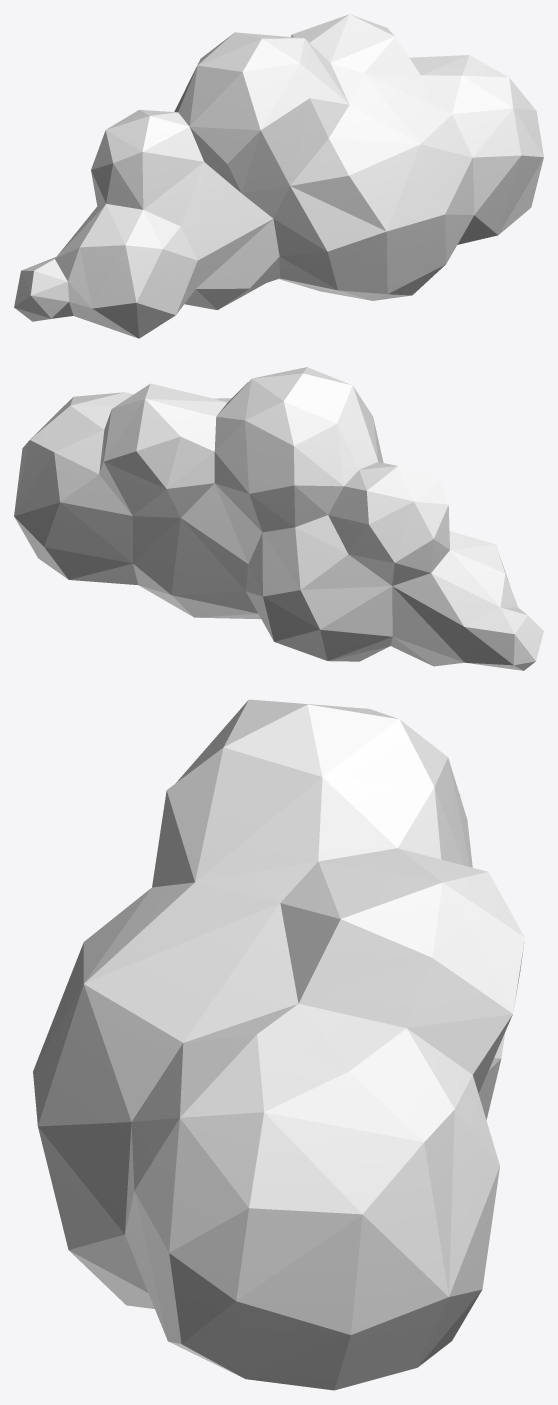
The model's file is cloud 5.fbx.
3 renders of one model, top to bottom at view 1: azimuth 30°, elevation 25°; view 2: azimuth 150°, elevation 25°; view 3: azimuth 270°, elevation 25°, orthographic. The views are drawn at different scales.
Parts seen in each view (by area): view 1: cloud 5; view 2: cloud 5; view 3: cloud 5.
Part boxes in pixels (left/top/right/bottom): cloud 5: left=14, top=14, right=543, bottom=338; cloud 5: left=14, top=367, right=543, bottom=670; cloud 5: left=33, top=699, right=524, bottom=1390.
Size of the model in its own units: 906 by 450 by 385.
